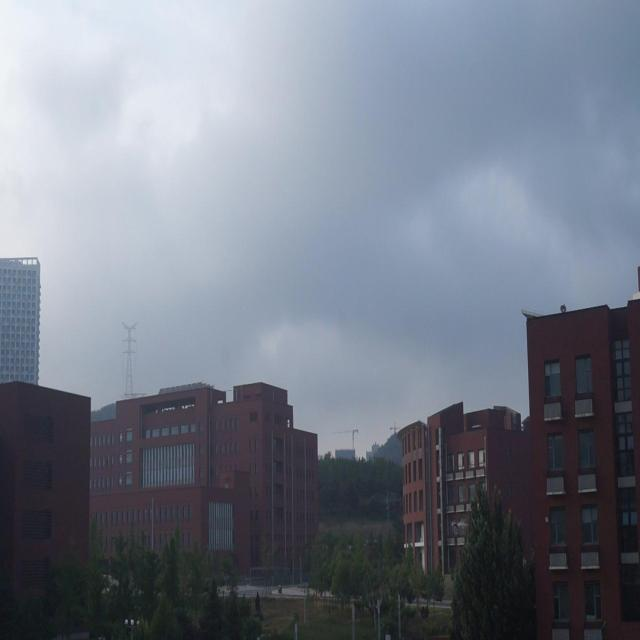drone: (448, 513, 471, 539)
